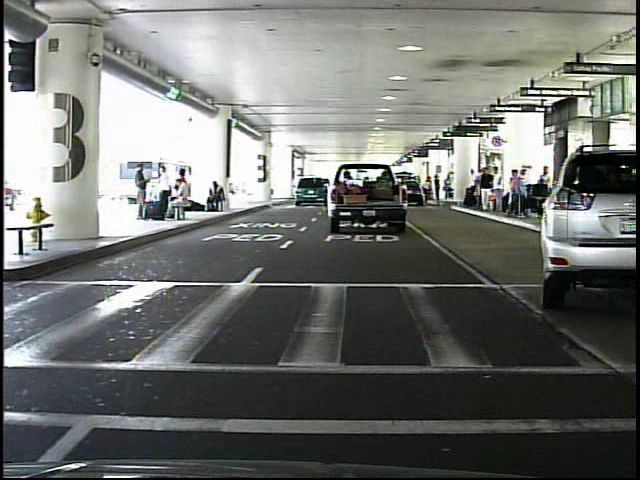person: (131, 161, 153, 224), (479, 167, 497, 217), (491, 165, 505, 216), (432, 172, 443, 204)
